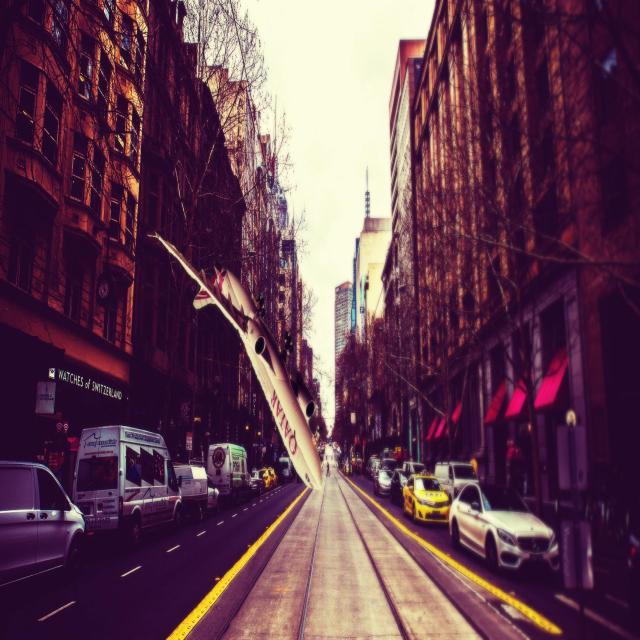airplane: (146, 229, 323, 491)
